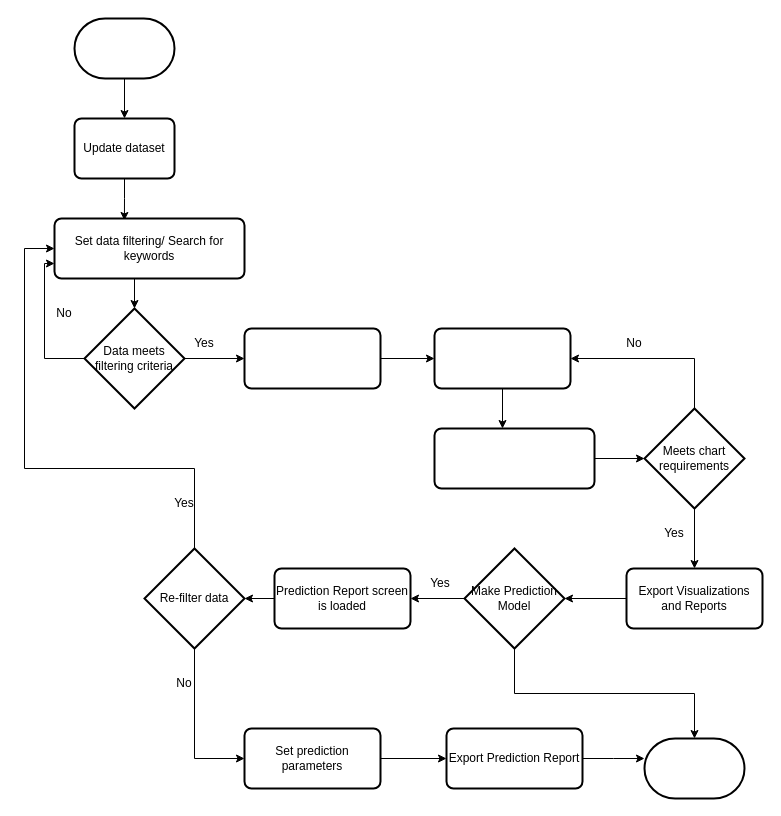
The diagram is 781 pixels wide and 816 high, and some of its shapes have lost their labels. Here are the shapes that lost their labels. From the top down, the centre of each, then its label:
At [124,48]: "Start".
At [312,358]: "Display filtered results".
At [502,358]: "Select generate chart type".
At [514,458]: "Set the data displayed in the chart".
At [694,768]: "End".
